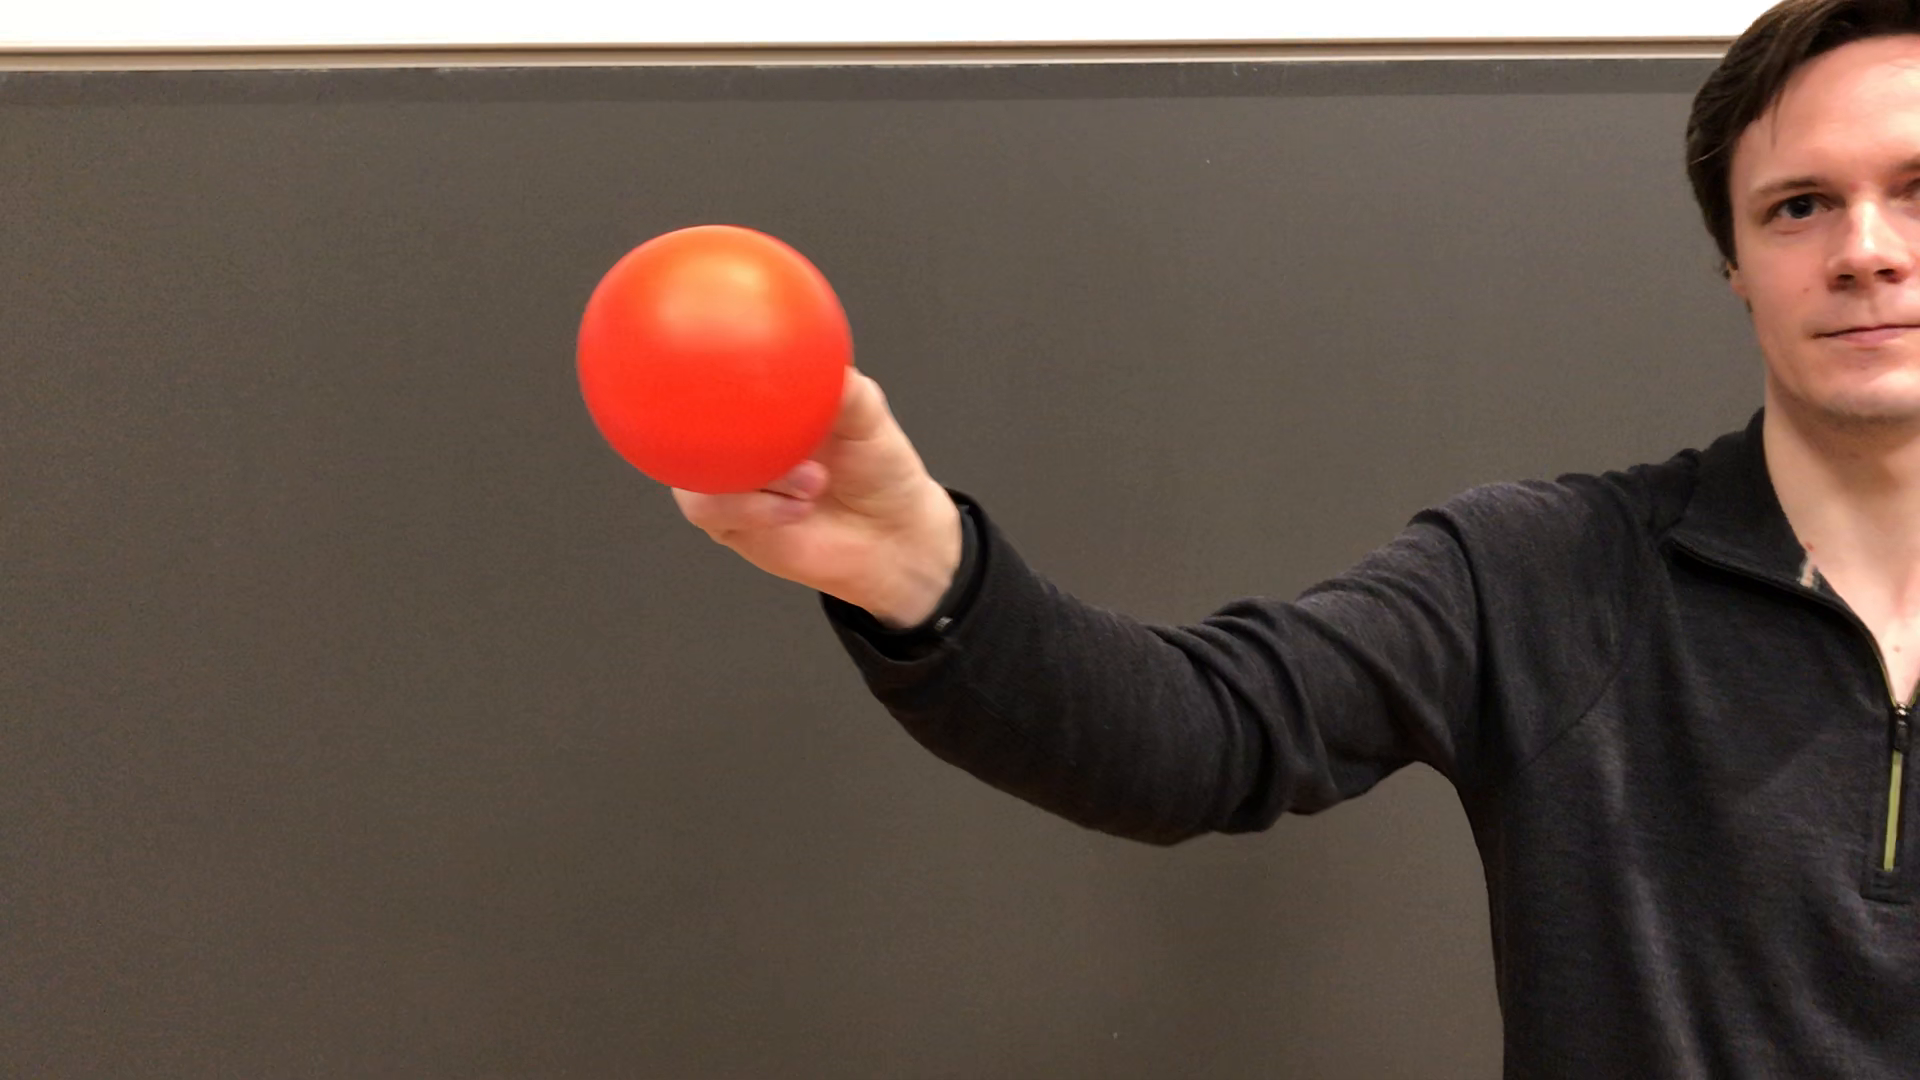Ball: (578, 223, 855, 492)
